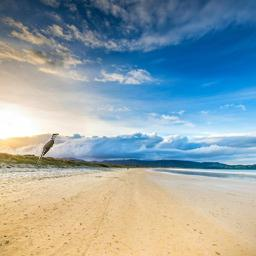Cuckoo: (36, 133, 59, 166)
